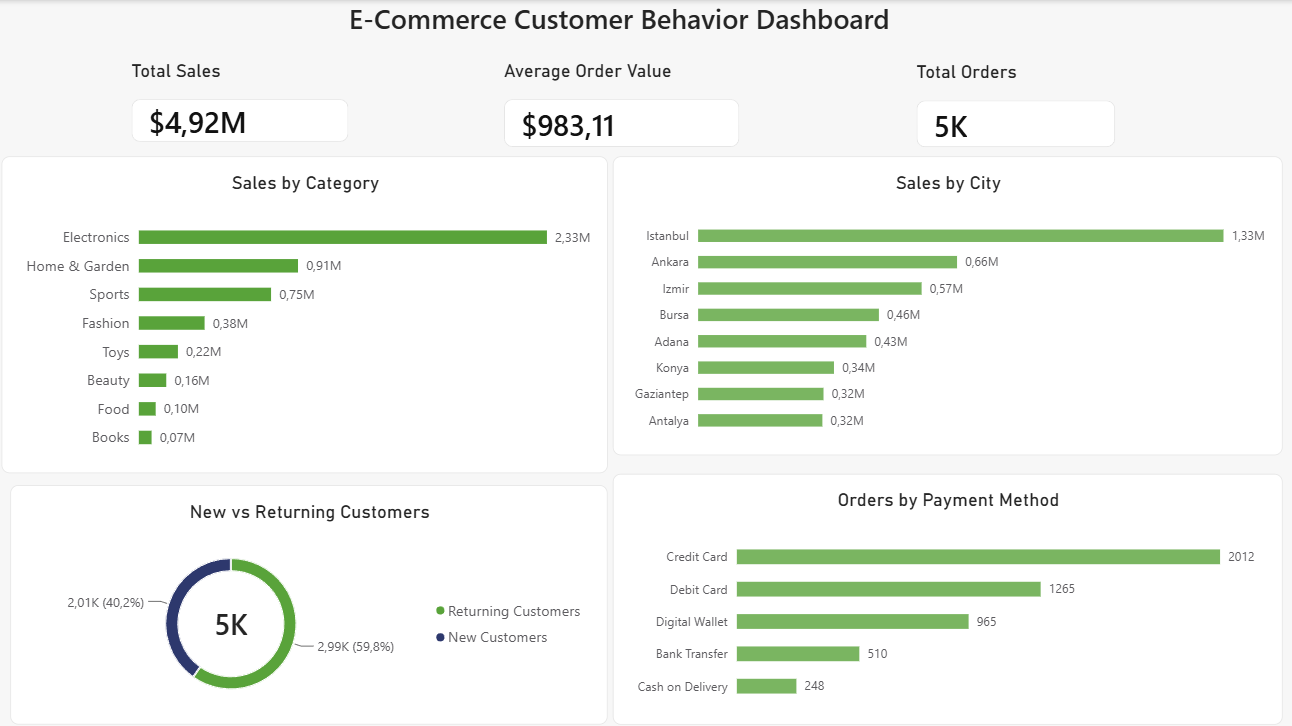

What the dashboard file says about the page in this screenshot:
{"tool":"powerbi","page":{"name":"Page 1","canvas":[1280,720],"ordinal":0},"visuals":[{"type":"cardVisual","title":"Total Sales","fields":{"Data":["Sum(ecommerce_customer_behavior_dat.Total_Amount)"]},"box":[202.5,57.7,213.5,81],"z":0},{"type":"cardVisual","title":"Average Order Value","fields":{"Data":["Avg(ecommerce_customer_behavior_dat.Total_Amount)"]},"box":[542.3,57.7,231.9,85.9],"z":1000},{"type":"pieChart","title":"Sales by Category","fields":{"Category":["ecommerce_customer_behavior_dat.Product_Category"],"Y":["Sum(ecommerce_customer_behavior_dat.Total_Amount)"]},"box":[12.3,153.4,595.5,311.5],"z":2000},{"type":"cardVisual","title":"Total Orders","fields":{"Data":["CountNonNull(ecommerce_customer_behavior_dat.Order_ID)"]},"box":[885.9,57.7,256.4,84.7],"z":3000},{"type":"clusteredBarChart","title":"Sales by City","fields":{"Category":["ecommerce_customer_behavior_dat.City"],"Y":["Sum(ecommerce_customer_behavior_dat.Total_Amount)"]},"box":[612.3,153.4,657.7,293.3],"z":4000},{"type":"donutChart","title":"New vs Returning Customers","fields":{"Category":["ecommerce_customer_behavior_dat.Customer Type"],"Y":["CountNonNull(ecommerce_customer_behavior_dat.Order_ID)"]},"box":[20.9,476.1,586.5,235.6],"z":5000},{"type":"clusteredBarChart","title":"Orders by Payment Method","fields":{"Category":["ecommerce_customer_behavior_dat.Payment_Method"],"Y":["CountNonNull(ecommerce_customer_behavior_dat.Order_ID)"]},"box":[612.3,465,657.7,246.6],"z":6000},{"type":"textbox","box":[353.4,0,557.1,45.4],"z":7000}]}

Visuals, with their boxes in screenshot pixels (x1, y1, x2, y2), scaled from the page's 1280x720 canvas onto the 1292x726 screenshot:
"Total Sales" cardVisual: x1=204 y1=58 x2=420 y2=140
"Average Order Value" cardVisual: x1=547 y1=58 x2=781 y2=145
"Sales by Category" pieChart: x1=12 y1=155 x2=613 y2=469
"Total Orders" cardVisual: x1=894 y1=58 x2=1153 y2=144
"Sales by City" clusteredBarChart: x1=618 y1=155 x2=1282 y2=450
"New vs Returning Customers" donutChart: x1=21 y1=480 x2=613 y2=718
"Orders by Payment Method" clusteredBarChart: x1=618 y1=469 x2=1282 y2=718
textbox: x1=357 y1=0 x2=919 y2=46
